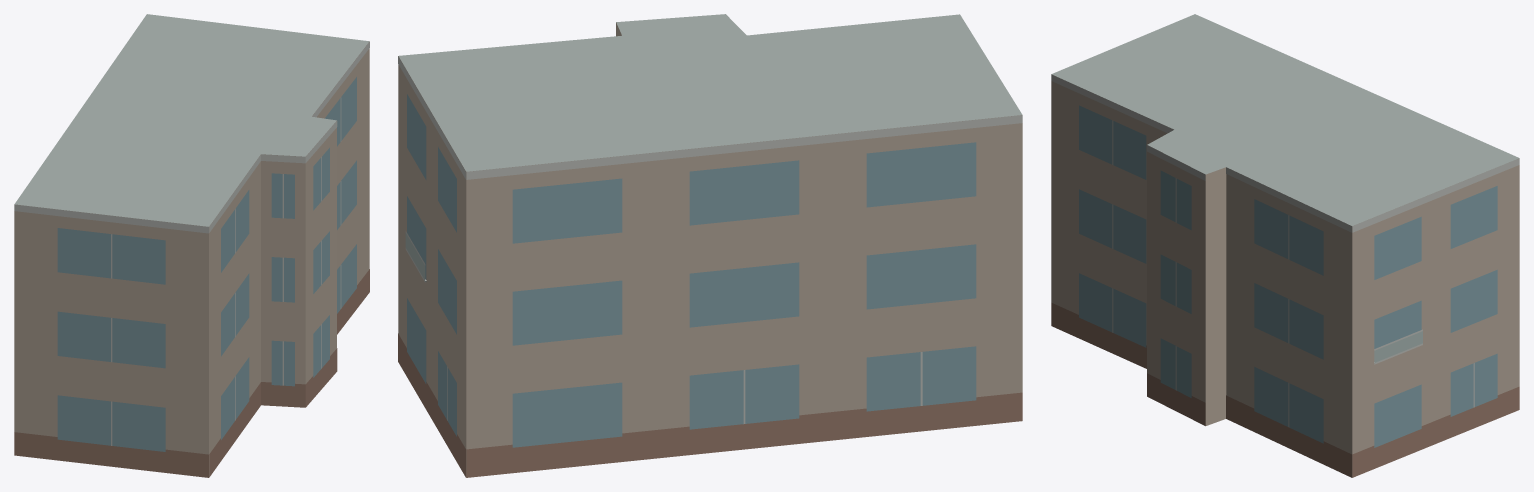
Rendered from survey-upis-32593250.glb.
3 views of the same model, side by side, from view 1: azimuth 30°, elevation 25°; view 2: azimuth 150°, elevation 25°; view 3: azimuth 270°, elevation 25° (orthographic). The views are drawn at different scales.
Parts seen in each view (by area): view 1: survey-upis-32593250.tmp; view 2: survey-upis-32593250.tmp; view 3: survey-upis-32593250.tmp.
Boxes of the visible parts, x1=… form: survey-upis-32593250.tmp: x1=14, y1=14, x2=369, y2=477; survey-upis-32593250.tmp: x1=398, y1=14, x2=1022, y2=477; survey-upis-32593250.tmp: x1=1051, y1=14, x2=1519, y2=477.
Bounding box in the file's own units: 16.55 × 9.15 × 15.44.
